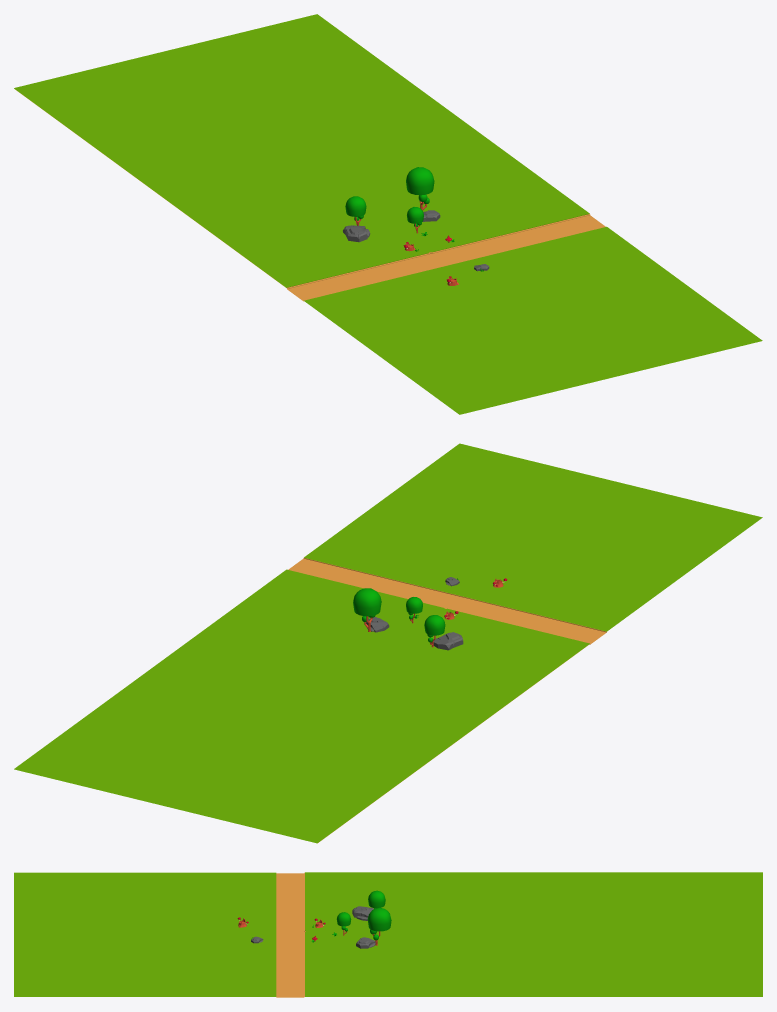
File: BackGround_2.fbx
3 views of the same model, one above another, from view 1: azimuth 30°, elevation 25°; view 2: azimuth 150°, elevation 25°; view 3: azimuth 270°, elevation 25° (orthographic). The views are drawn at different scales.
Visible parts, largest first — view 1: floor, Tree; view 2: floor, Tree; view 3: floor, Tree, Tree4.
Boxes of the visible parts, x1,y1,x2,y2 form: floor: [14, 14, 762, 414]; Tree: [406, 167, 434, 210]; floor: [14, 443, 762, 843]; Tree: [353, 588, 381, 631]; floor: [14, 872, 762, 997]; Tree: [367, 907, 391, 945]; Tree4: [368, 890, 385, 908].
Size of the model in its own units: 7946 by 1140 by 20217.
Materials: 1 (1 with a texture image).
